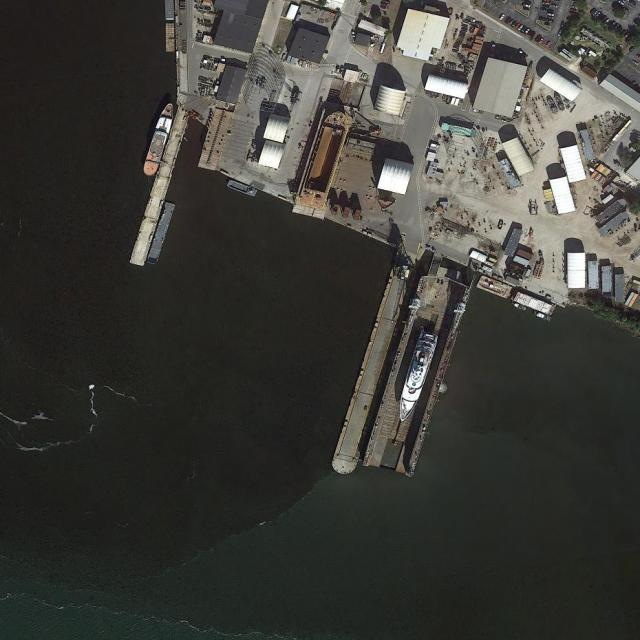Dock: (328, 241, 427, 479), (127, 109, 194, 268)
Other Ship: (141, 101, 180, 178)
Yacht: (395, 328, 439, 423)
